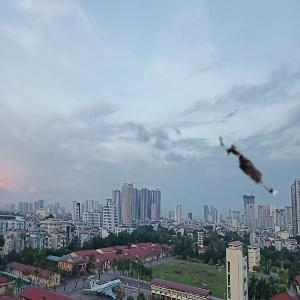drone: (206, 125, 299, 218)
